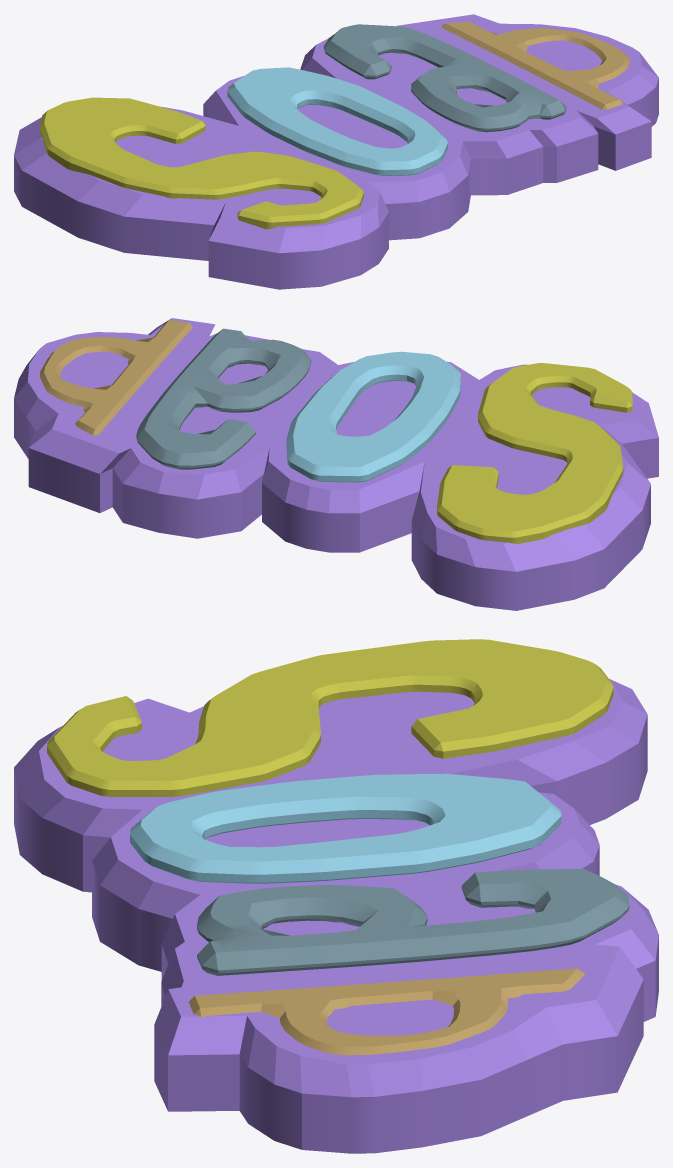
The model's file is Soap.fbx.
3 views of the same model, one above another, from view 1: azimuth 30°, elevation 25°; view 2: azimuth 150°, elevation 25°; view 3: azimuth 270°, elevation 25° (orthographic). The views are drawn at different scales.
Visible parts, largest first — view 1: pCube4, s2, o2, pasted__pCube2, p2; view 2: pCube4, s2, o2, pasted__pCube2, p2; view 3: pCube4, s2, o2, pasted__pCube2, p2.
Boxes of the visible parts, x1,y1,x2,y2 form: pCube4: [14, 14, 658, 289]; s2: [40, 97, 363, 229]; o2: [227, 67, 447, 175]; pasted__pCube2: [323, 24, 566, 132]; p2: [441, 21, 630, 109]; pCube4: [14, 318, 658, 610]; s2: [437, 363, 632, 543]; o2: [286, 351, 460, 482]; pasted__pCube2: [136, 328, 311, 469]; p2: [39, 320, 192, 435]; pCube4: [14, 679, 658, 1153]; s2: [47, 639, 613, 796]; o2: [130, 773, 561, 883]; pasted__pCube2: [197, 868, 629, 975]; p2: [189, 968, 584, 1055].
Size of the model in its own units: 6.6 by 0.7105 by 4.11.
